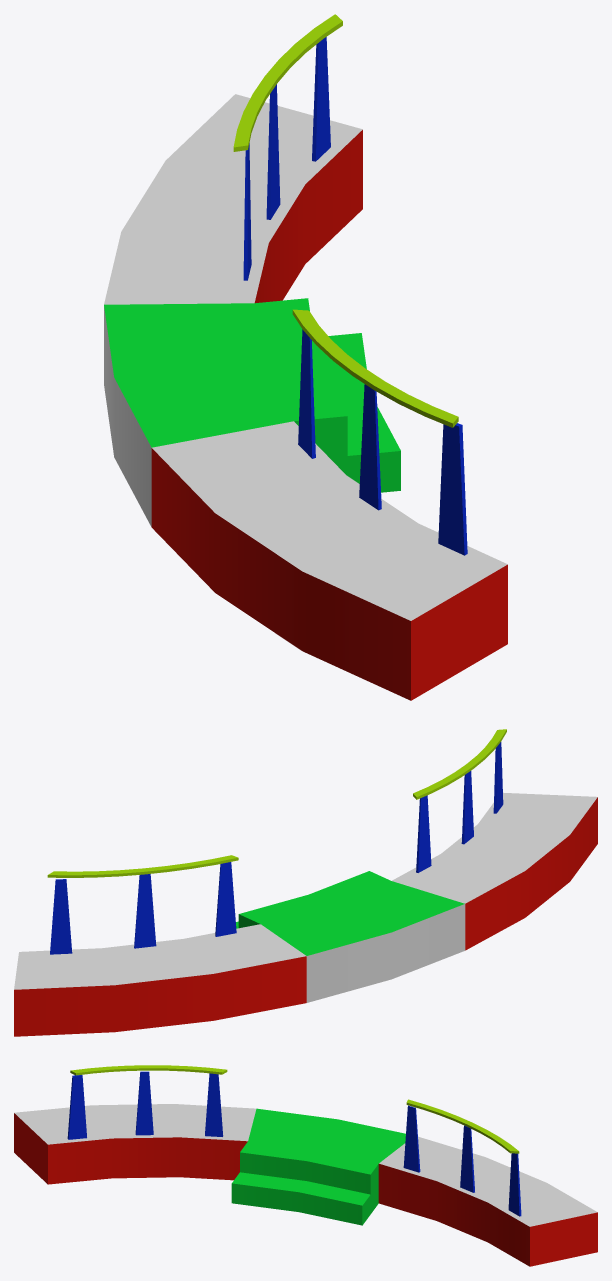
The model's file is gradasFinal.fbx.
3 views of the same model, one above another, from view 1: azimuth 30°, elevation 25°; view 2: azimuth 150°, elevation 25°; view 3: azimuth 270°, elevation 25° (orthographic). The views are drawn at different scales.
Visible parts, largest first — view 1: gradas final; view 2: gradas final; view 3: gradas final.
Part boxes in pixels (<box>): gradas final: <box>104,14,507,700</box>; gradas final: <box>14,729,597,1036</box>; gradas final: <box>14,1065,597,1266</box>.
Bounding box in the file's own units: 48.36 × 19.44 × 97.03.
